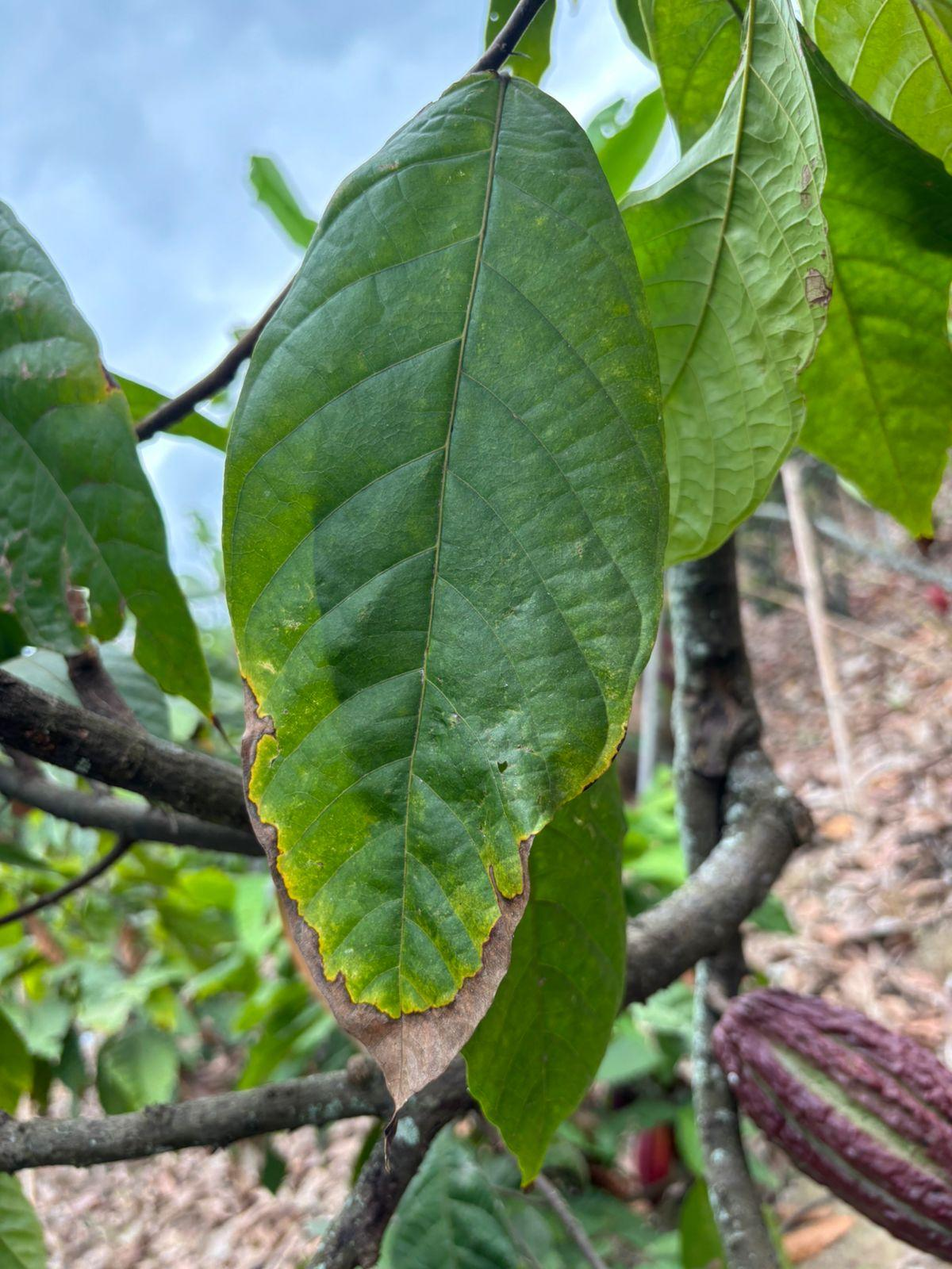Potasio: (223, 75, 667, 1100)
